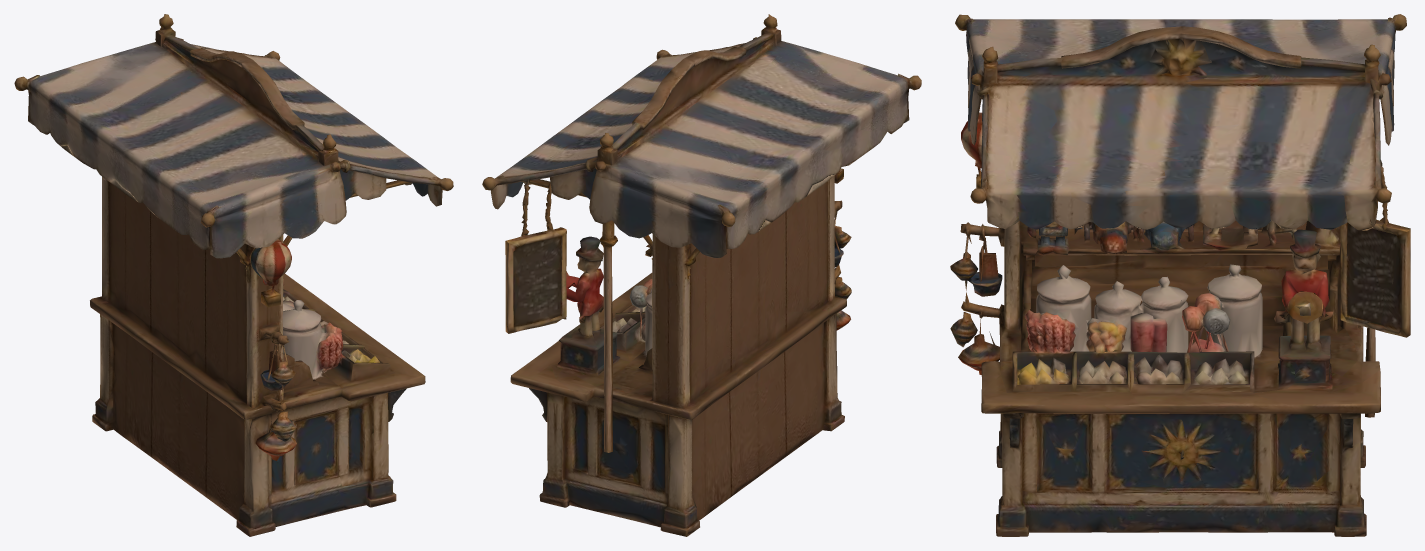
File: m_kiosk.glb
3 renders of one model, left to right at view 1: azimuth 30°, elevation 25°; view 2: azimuth 150°, elevation 25°; view 3: azimuth 270°, elevation 25°, orthographic. The views are drawn at different scales.
Parts seen in each view (by area): view 1: tripo_node_e489c443-ad58-42f3-8d34-28dfaef32738; view 2: tripo_node_e489c443-ad58-42f3-8d34-28dfaef32738; view 3: tripo_node_e489c443-ad58-42f3-8d34-28dfaef32738.
Part boxes in pixels (<box>): tripo_node_e489c443-ad58-42f3-8d34-28dfaef32738: <box>14,14,453,536</box>; tripo_node_e489c443-ad58-42f3-8d34-28dfaef32738: <box>482,14,921,536</box>; tripo_node_e489c443-ad58-42f3-8d34-28dfaef32738: <box>950,14,1410,536</box>.
Size of the model in its own units: 0.6733 by 1 by 0.8929.
1 material, 1 textured.
